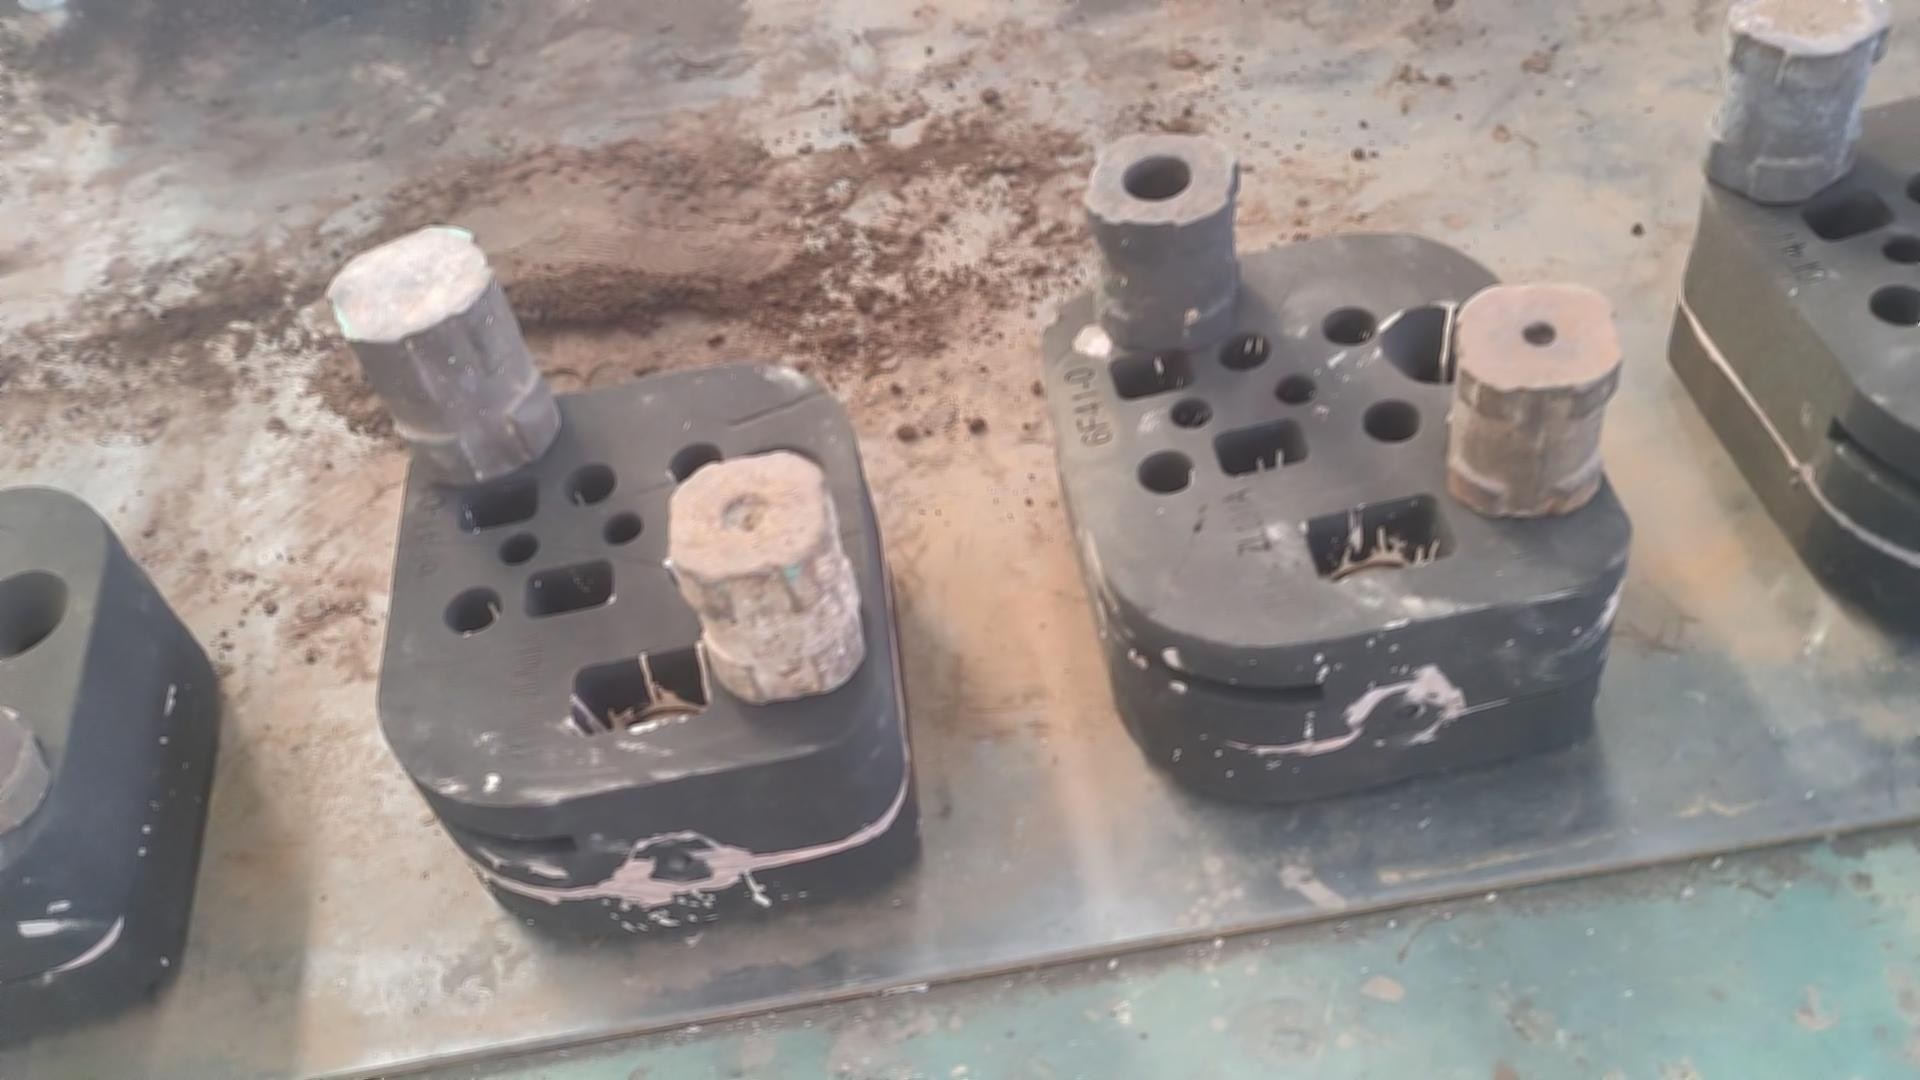pouring hole: (1379, 301, 1485, 386), (737, 447, 828, 522), (1, 571, 69, 655)
